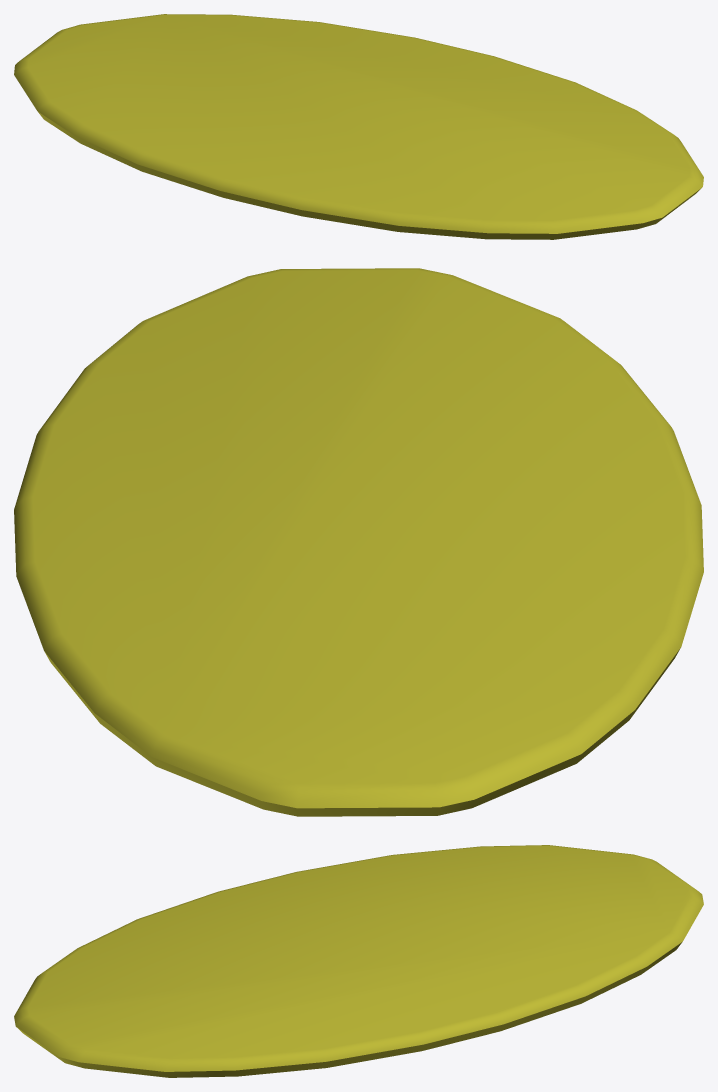
Rendered from hali.fbx.
3 renders of one model, top to bottom at view 1: azimuth 30°, elevation 25°; view 2: azimuth 150°, elevation 25°; view 3: azimuth 270°, elevation 25°, orthographic. The views are drawn at different scales.
Visible parts, largest first — view 1: halı; view 2: halı; view 3: halı.
Boxes of the visible parts, <box> form: halı: <box>14,14,703,239</box>; halı: <box>14,268,703,816</box>; halı: <box>14,845,703,1077</box>.
Size of the model in its own units: 196 by 6.76 by 256.
